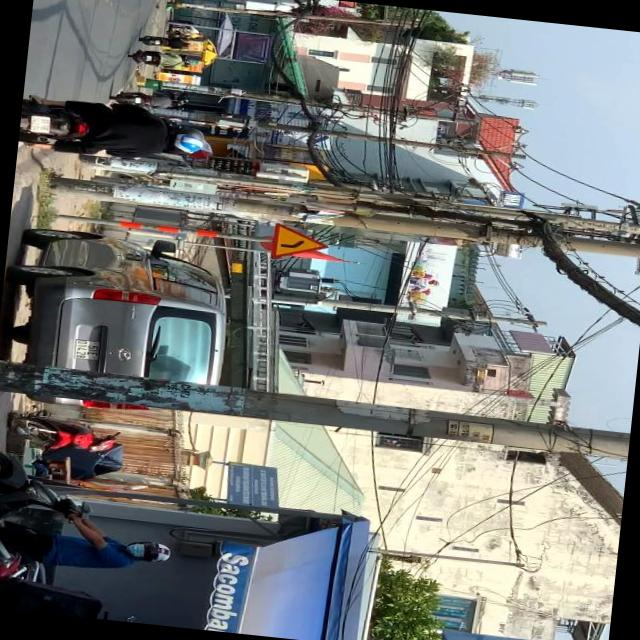W-201a: (268, 222, 332, 262)
